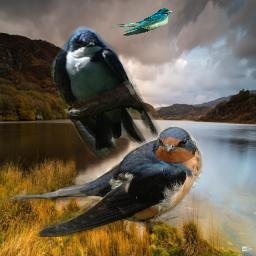Swallow: (2, 125, 203, 237), (50, 26, 164, 163), (110, 8, 172, 36)
